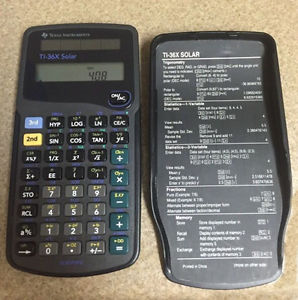Calculator: (7, 22, 142, 278)
